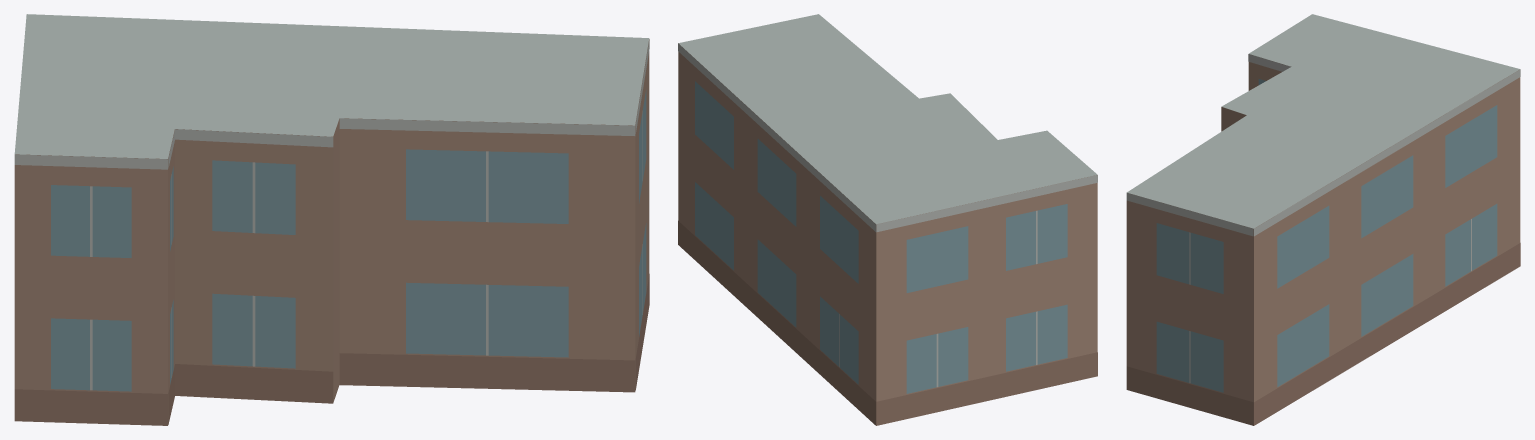
The model's file is survey-upis-32749961.glb.
The picture shows the model from 3 angles, left to right: view 1: azimuth 30°, elevation 25°; view 2: azimuth 150°, elevation 25°; view 3: azimuth 270°, elevation 25°; orthographic projection. The views are drawn at different scales.
Parts seen in each view (by area): view 1: survey-upis-32749961.tmp; view 2: survey-upis-32749961.tmp; view 3: survey-upis-32749961.tmp.
Boxes of the visible parts, x1,y1,x2,y2 form: survey-upis-32749961.tmp: [14, 14, 649, 425]; survey-upis-32749961.tmp: [678, 14, 1097, 425]; survey-upis-32749961.tmp: [1126, 14, 1520, 425].
Size of the model in its own units: 14.25 by 6.1 by 11.05.
